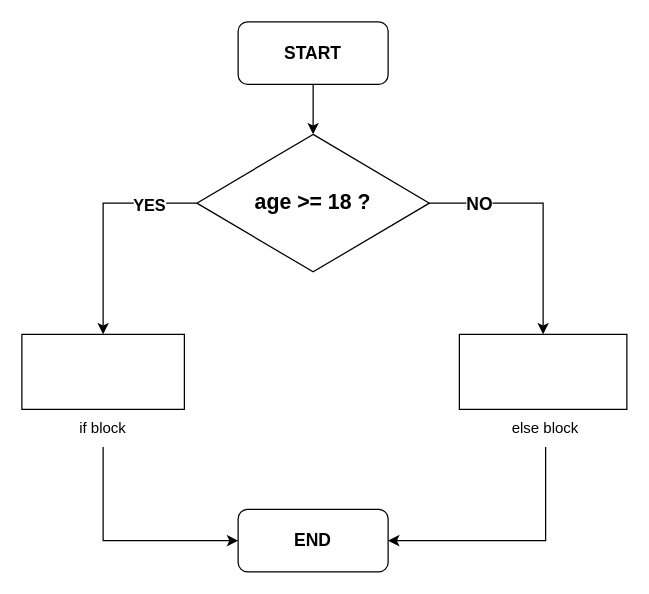
The diagram is 649 pixels wide and 594 high, and some of its shapes have lost their labels. Each missing label, with the centre of its shape:
"person is eligible for voting" goes at [102,371].
"person is NOT eligible for voting" goes at [542,371].
